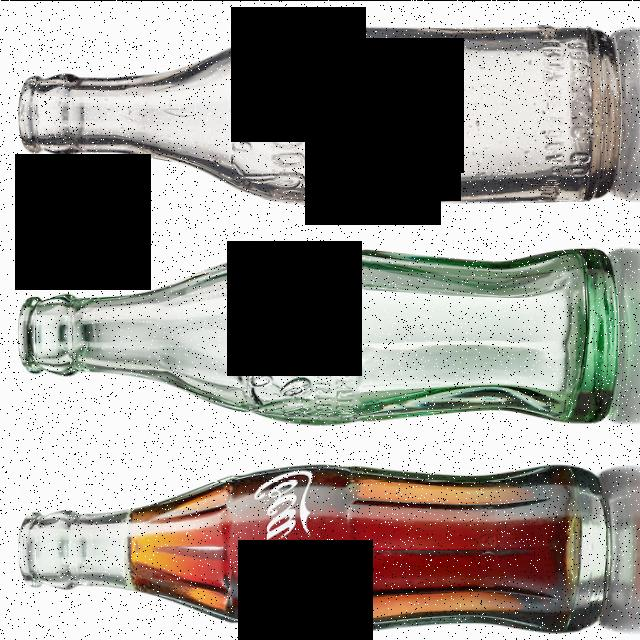glass-bottle: (15, 235, 629, 435), (14, 21, 637, 215), (8, 457, 624, 640)
